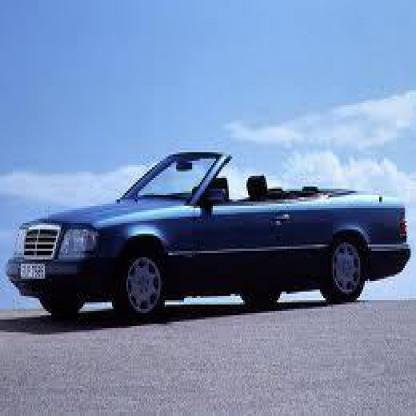Vehicle: (7, 144, 414, 326)
